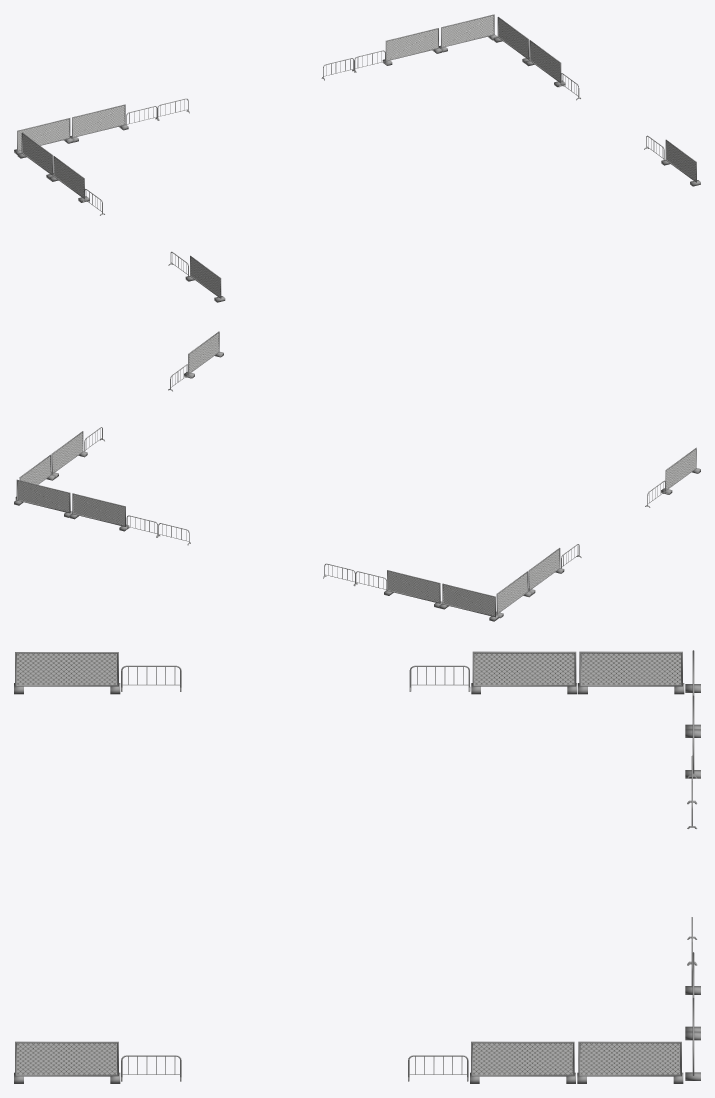
The model's file is chainfence.glb.
3 renders of one model, top to bottom at view 1: azimuth 30°, elevation 25°; view 2: azimuth 150°, elevation 25°; view 3: azimuth 270°, elevation 25°, orthographic. The views are drawn at different scales.
Parts seen in each view (by area): view 1: smallfence Instance.5-Mat.4, smallfence Instance.5-lambert1; view 2: smallfence Instance.5-Mat.4, smallfence Instance.5-lambert1; view 3: smallfence Instance.5-Mat.4, smallfence Instance.5-lambert1.
Part boxes in pixels (x1,y1,x2,y2): smallfence Instance.5-Mat.4: [18, 15, 695, 296]; smallfence Instance.5-lambert1: [14, 14, 700, 302]; smallfence Instance.5-Mat.4: [18, 333, 695, 615]; smallfence Instance.5-lambert1: [14, 331, 700, 621]; smallfence Instance.5-Mat.4: [17, 653, 680, 1074]; smallfence Instance.5-lambert1: [14, 650, 700, 1083].
Size of what is drawn, in the model's own units: 47.7 by 2.2 by 34.95.
2 materials, 1 textured.
